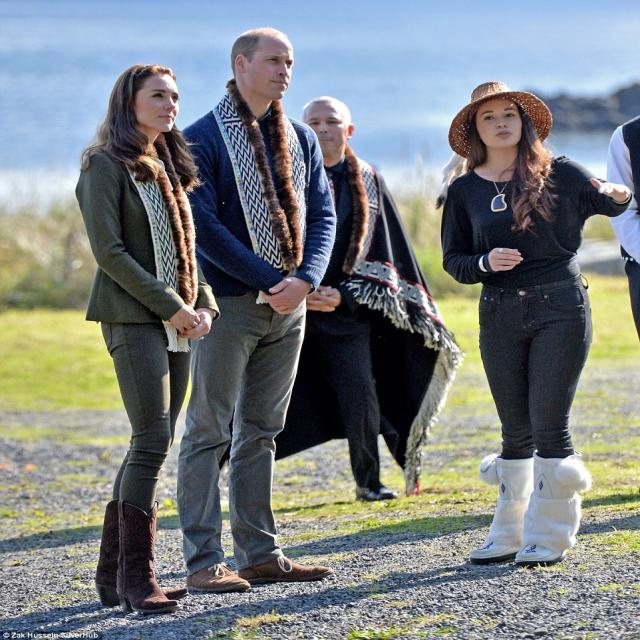body: (218, 92, 468, 503), (438, 78, 637, 571), (171, 22, 341, 594), (71, 59, 223, 618), (596, 98, 640, 351)
